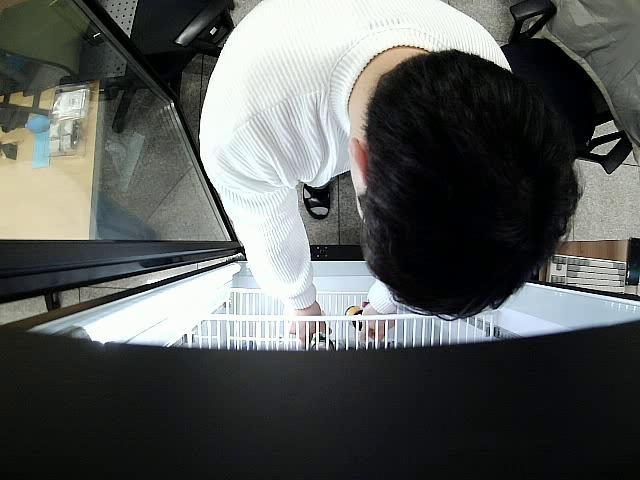17_vita500: (345, 306, 367, 330)
